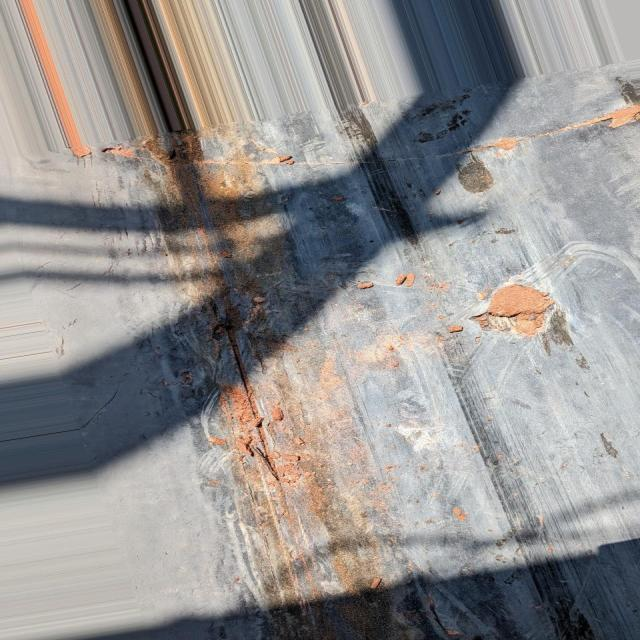impact damage: (137, 151, 422, 640)
